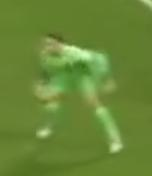goalkeeper: (21, 17, 132, 161)
